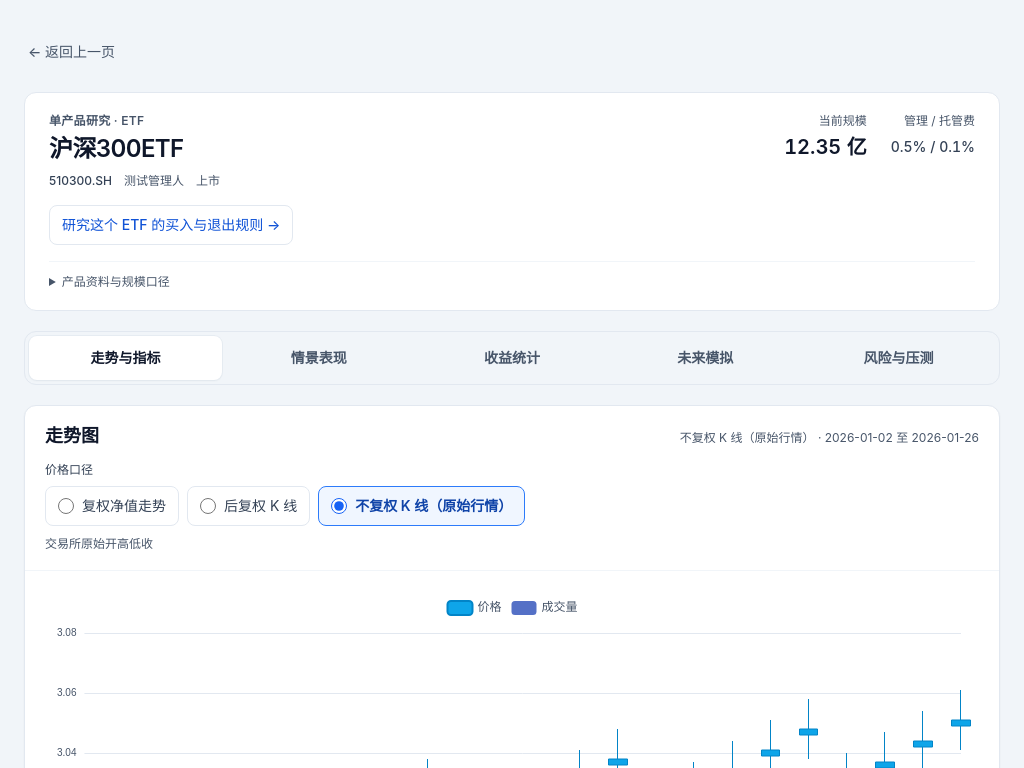
Scenario: ProductDetail custom indicators › 研究日之后数据只走完一部分时，给区间不给分位
Click the tab "未来模拟".
click(705, 358)  # box [609,336,802,380]
(page scrolled)
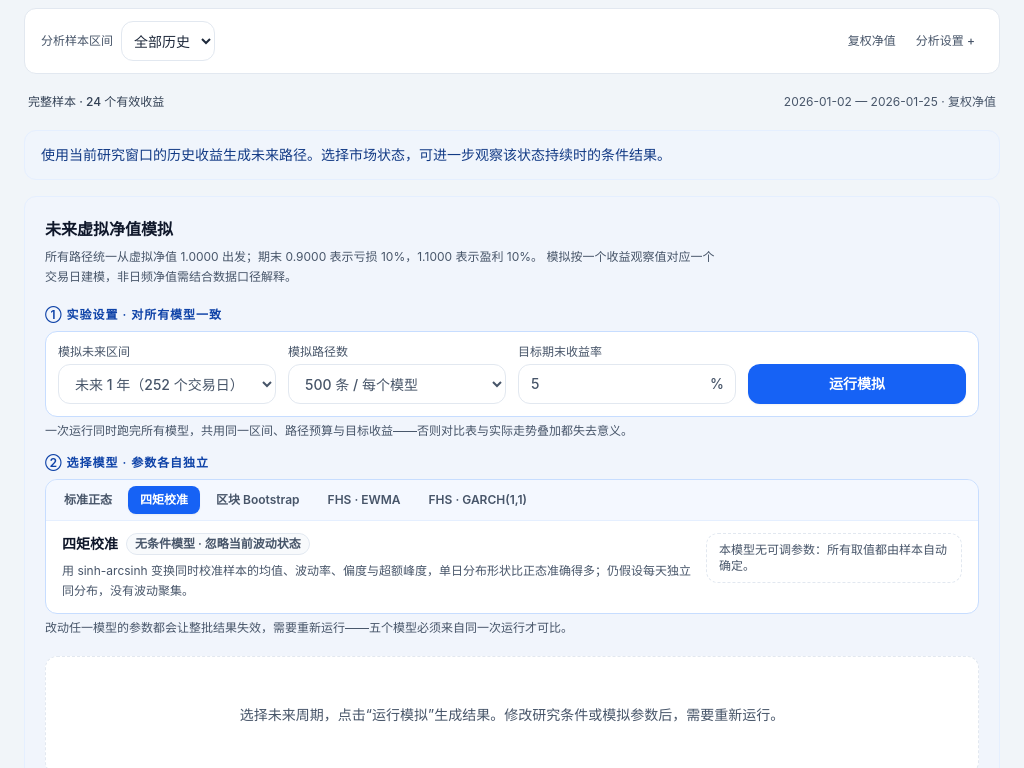
Select "未来 1 个月（21 个交易日）" in the dropdown labelled "模拟未来区间" at (167,384), box [58,364,276,404]
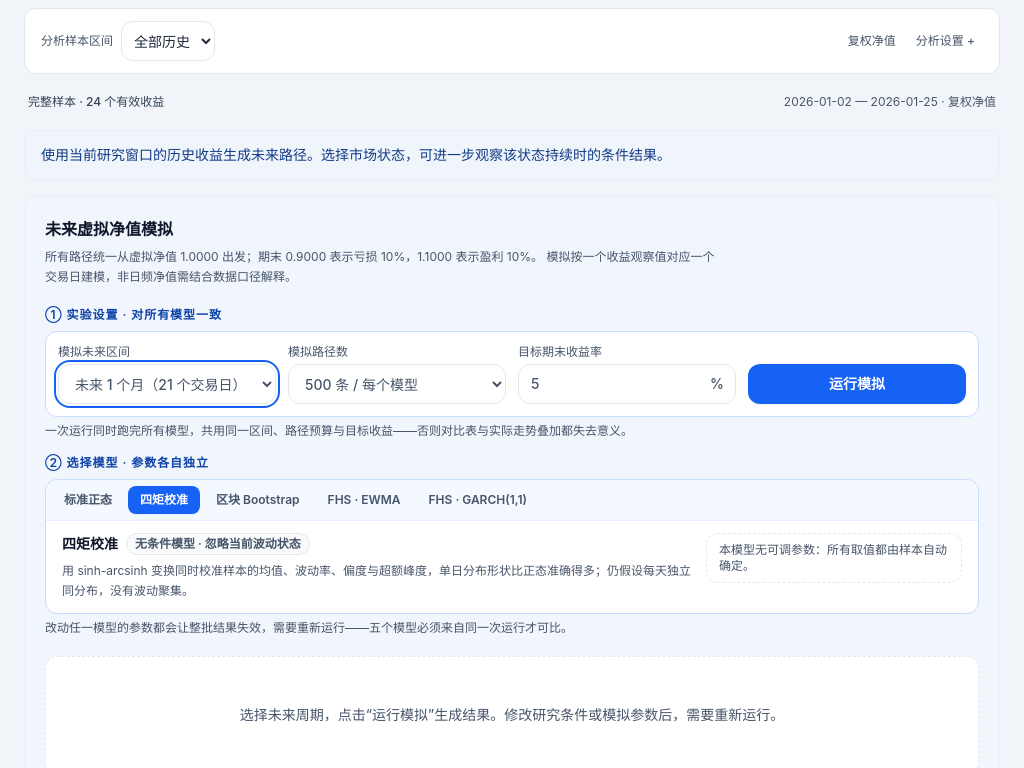
Click the button "运行模拟".
click(857, 384)  # box [748,364,966,404]
(page scrolled)
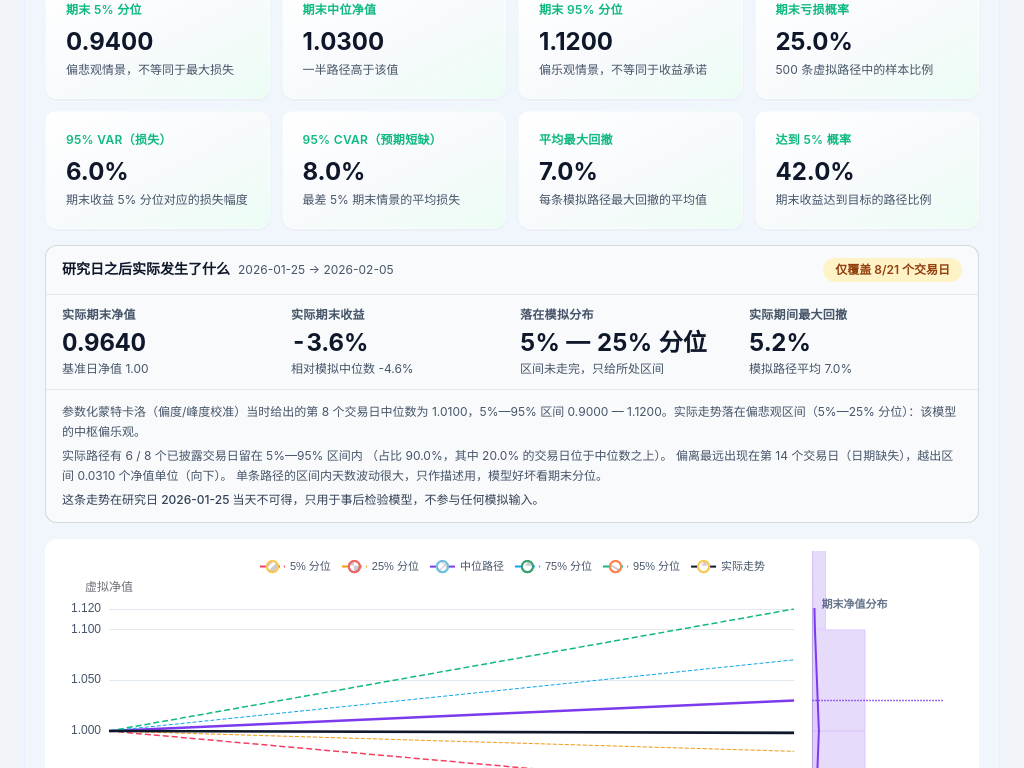
Check: the element with test id "realized-future-strip" shows "仅覆盖 8/21 个交易日", box [835,262,950,277]
Check: the element with test id "realized-future-strip" shows "区间未走完，只给所处区间", box [520,361,664,376]
Check: the element with test id "realized-future-strip" shows "5% — 25% 分位", box [520,328,707,357]
